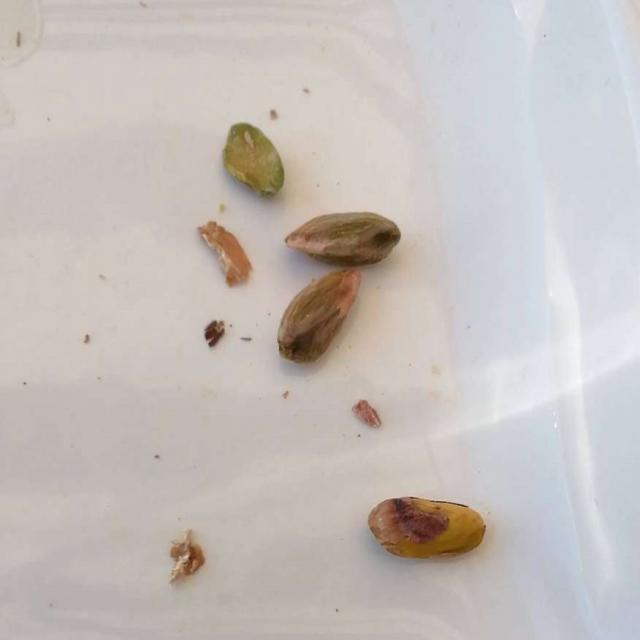pistachio: (222, 117, 491, 559)
